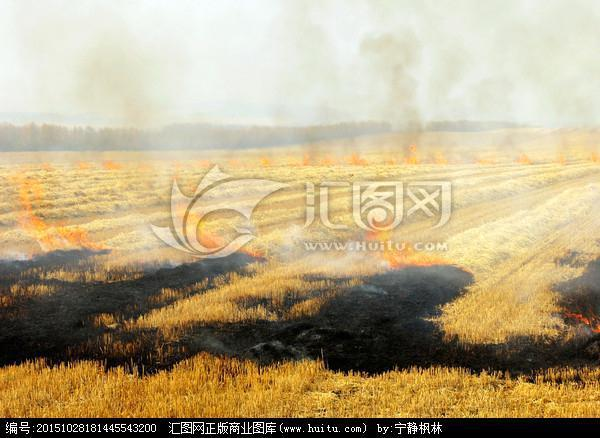fire: (150, 147, 598, 169), (11, 179, 110, 255), (172, 187, 262, 269), (357, 212, 450, 271), (8, 154, 130, 179), (566, 299, 595, 335)
